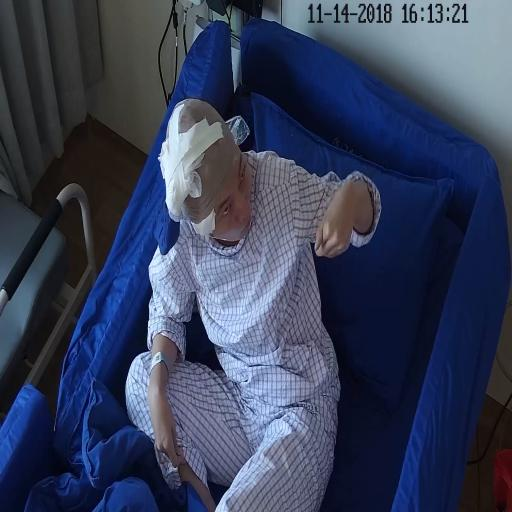Seizure: (174, 119, 257, 246)
